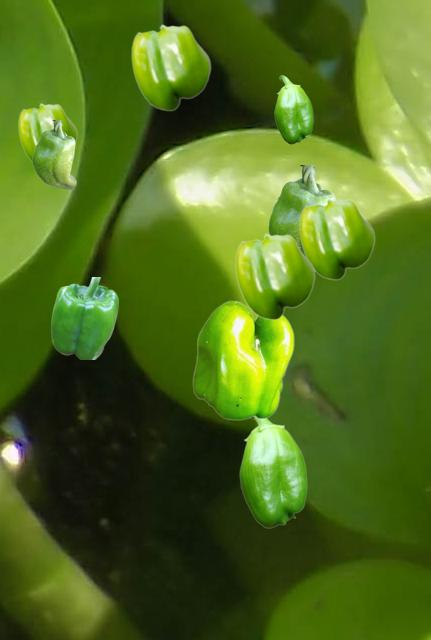bell_pepper: (192, 300, 293, 419), (239, 418, 306, 527), (131, 24, 210, 110), (235, 233, 314, 319), (299, 198, 374, 279), (268, 165, 335, 249), (51, 277, 117, 358), (18, 103, 76, 162), (32, 120, 75, 188), (274, 75, 312, 143)
